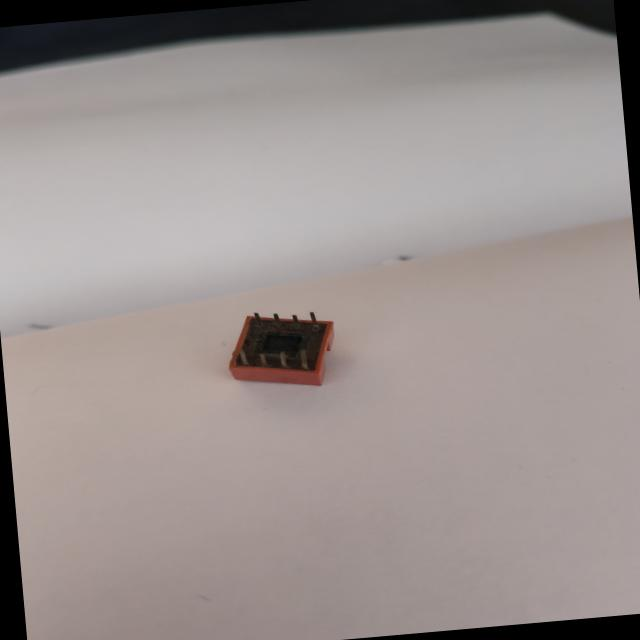switch: (210, 292, 352, 405)
